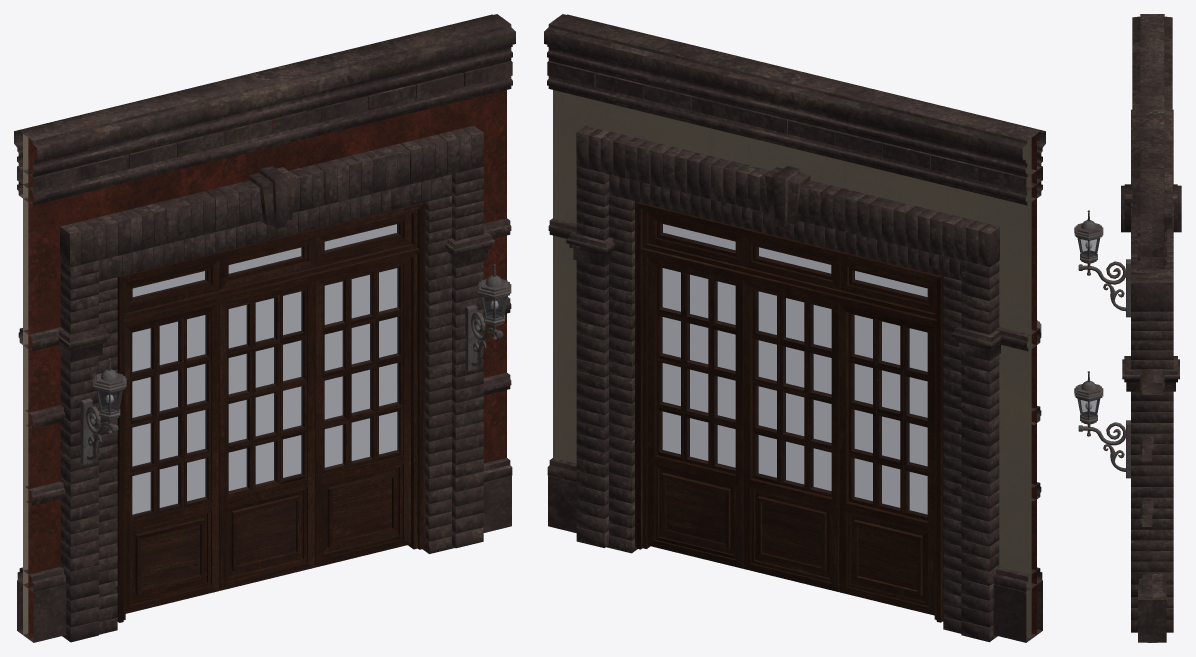
The model's file is SK2 DOOR 3.fbx.
3 renders of one model, left to right at view 1: azimuth 30°, elevation 25°; view 2: azimuth 150°, elevation 25°; view 3: azimuth 270°, elevation 25°, orthographic. The views are drawn at different scales.
Visible parts, largest first — view 1: SK2 DOOR 3; view 2: SK2 DOOR 3; view 3: SK2 DOOR 3.
Boxes of the visible parts, box(x1,y1,x2,y2) form: SK2 DOOR 3: box(14, 14, 515, 642); SK2 DOOR 3: box(544, 14, 1045, 642); SK2 DOOR 3: box(1074, 14, 1181, 642).
Bounding box in the file's own units: 400 × 406 × 90.48.
